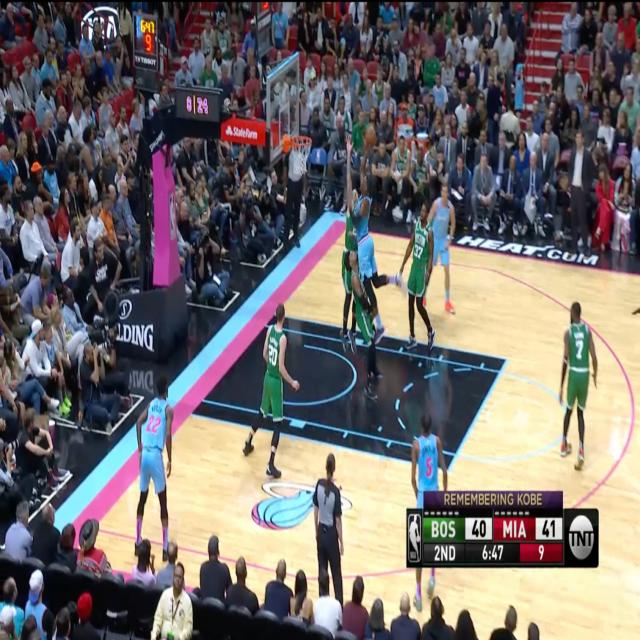Foul: (348, 188, 384, 402)
